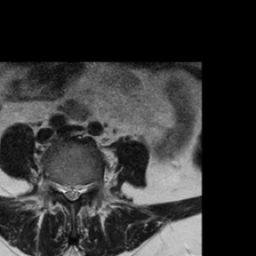CCS_stenosis: (69, 177, 76, 208)
LFS_normal: (83, 174, 91, 201)
LLS_normal: (76, 176, 83, 202)
RFS_normal: (53, 172, 61, 199)
RLS_normal: (61, 177, 69, 203)
